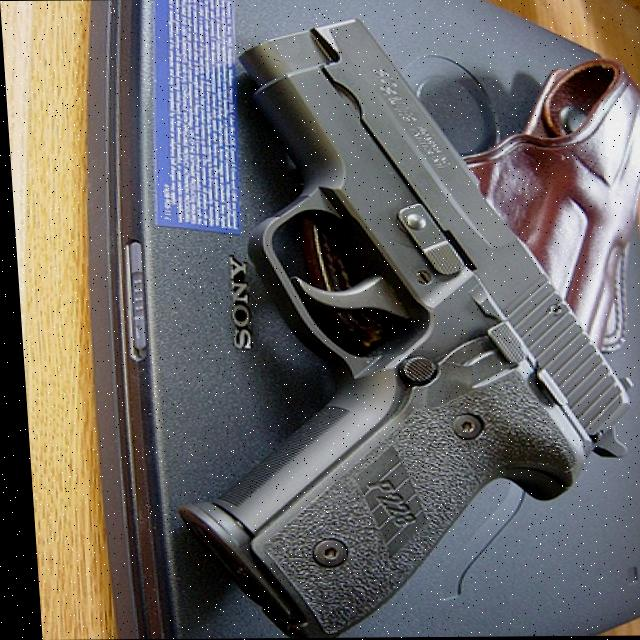pistol: (145, 17, 638, 639)
